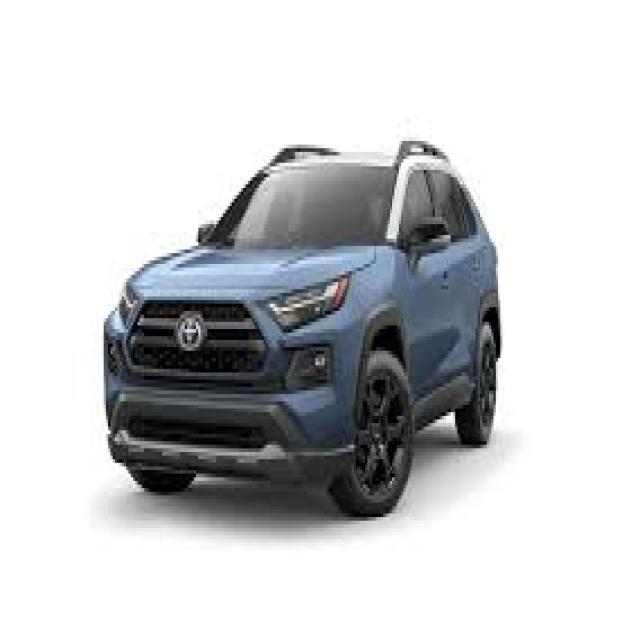light_vehicle: (102, 141, 504, 521)
